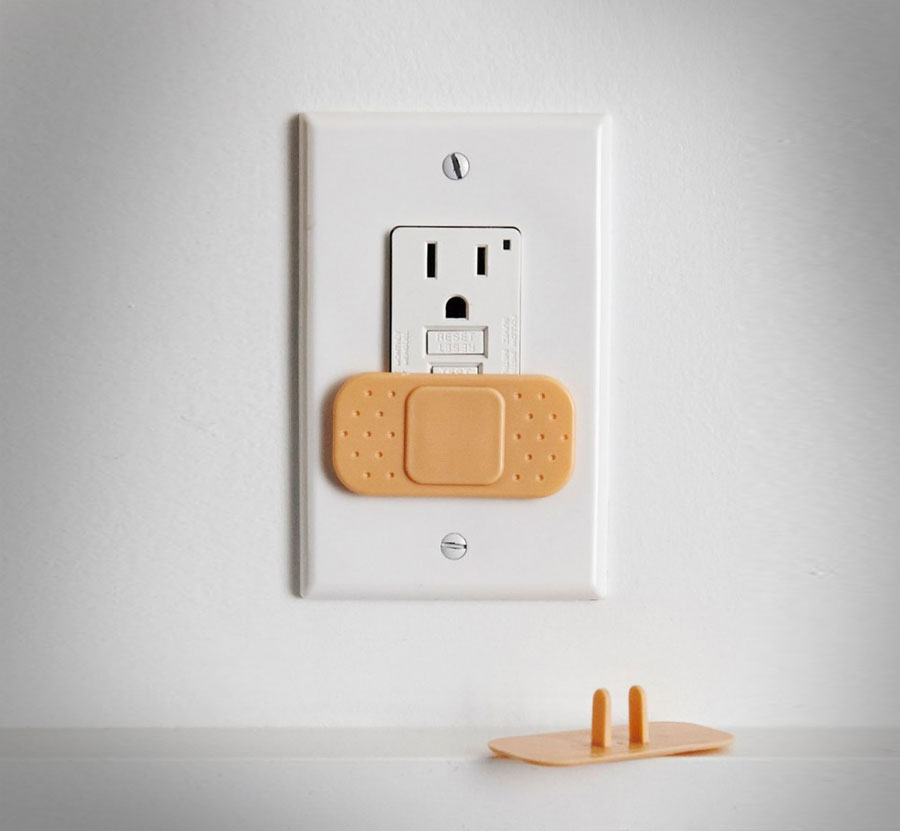outlet: (419, 236, 504, 327)
